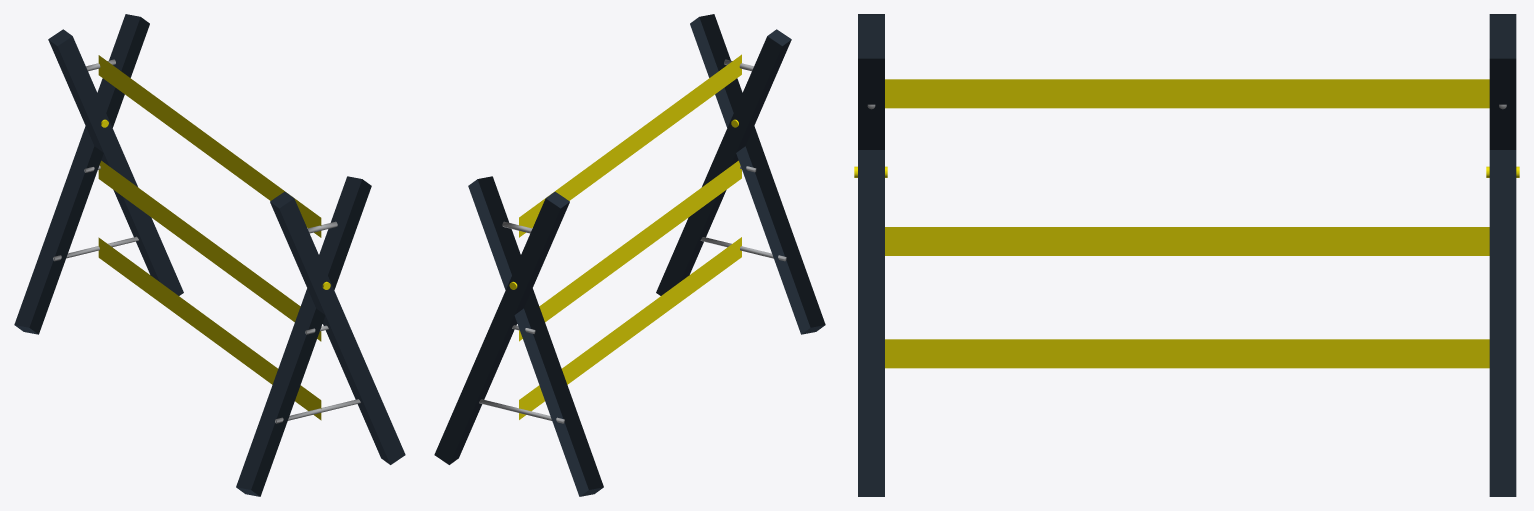
The model's file is YellowBlocker.glb.
3 renders of one model, left to right at view 1: azimuth 30°, elevation 25°; view 2: azimuth 150°, elevation 25°; view 3: azimuth 270°, elevation 25°, orthographic. The views are drawn at different scales.
Visible parts, largest first — view 1: YellowBlocker; view 2: YellowBlocker; view 3: YellowBlocker.
Boxes of the visible parts, x1,y1,x2,y2 form: YellowBlocker: [14, 14, 405, 496]; YellowBlocker: [434, 14, 825, 496]; YellowBlocker: [854, 14, 1519, 496].
Size of the model in its own units: 0.9531 by 1.65 by 2.4.
